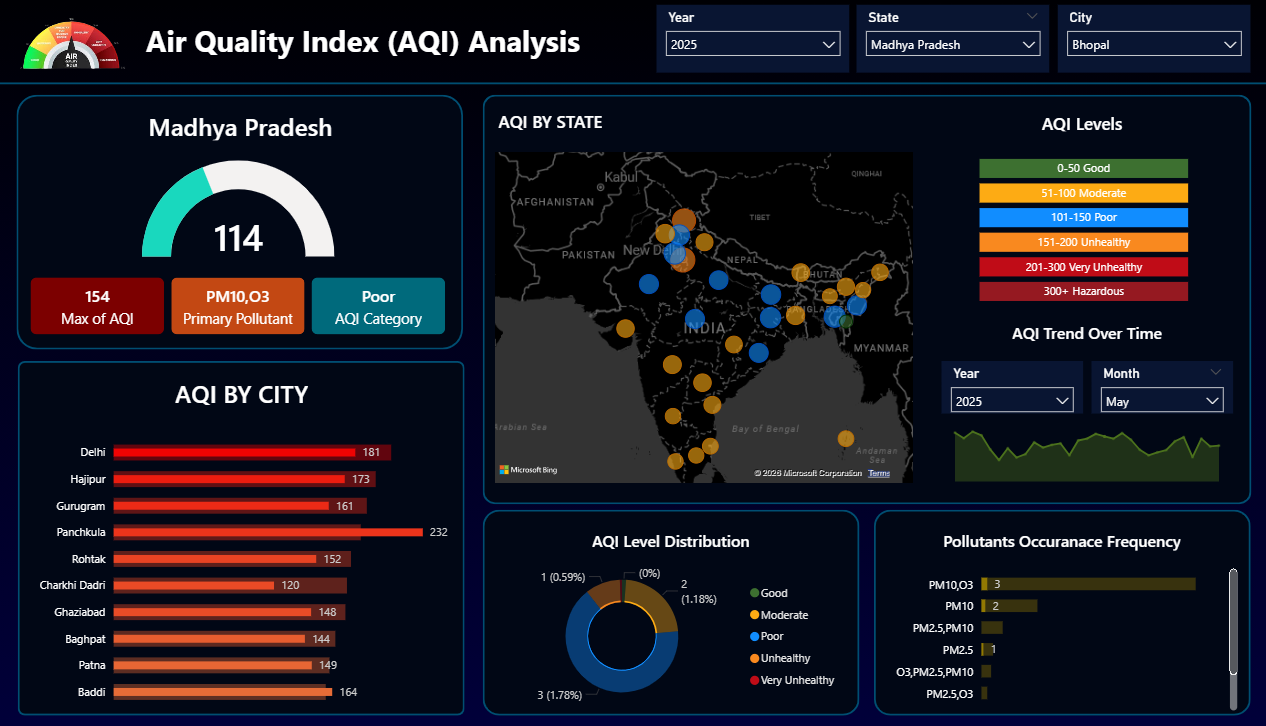

Layout of this report page (visuals, bound fields, positions):
{"tool":"powerbi","page":{"name":"AQI Analysis","canvas":[1400,800],"ordinal":0},"visuals":[{"type":"shape","box":[959,562.8,412.8,225.6],"z":0},{"type":"shape","box":[19.5,108.1,489.3,279.2],"z":1000},{"type":"textbox","box":[138.4,21.9,561.6,61.6],"z":2000},{"type":"gauge","fields":{"Y":["day_wise_aqi_data.Avg AQI"]},"box":[112.8,175.6,300,115.4],"z":3000},{"type":"slicer","fields":{"Values":["Calendar.Year"]},"box":[721,9,211.5,74.4],"z":4000},{"type":"slicer","fields":{"Values":["day_wise_aqi_data.state"]},"box":[940,9,211.5,74.4],"z":5000},{"type":"slicer","fields":{"Values":["day_wise_aqi_data.area"]},"box":[1160.3,9,211.5,74.4],"z":6000},{"type":"cardVisual","fields":{"Data":["Max(day_wise_aqi_data.aqi_value)","day_wise_aqi_data.Primary Pollutant","day_wise_aqi_data.AQI Category KPI"]},"box":[18,291.2,490.8,96.1],"z":7000},{"type":"cardVisual","fields":{"Data":["day_wise_aqi_data.KPI Title"]},"box":[20.5,107.7,488.5,67.9],"z":8000},{"type":"shape","box":[529.5,107.7,842.3,448.7],"z":9000},{"type":"map","fields":{"Category":["day_wise_aqi_data.state"],"Size":["day_wise_aqi_data.Avg AQI"]},"box":[538.5,165.4,467.9,373.1],"z":10000},{"type":"cardVisual","fields":{"Data":["day_wise_aqi_data.StatewiseAQI"]},"box":[529.5,107.7,460.3,57.7],"z":11000},{"type":"barChart","fields":{"Category":["day_wise_aqi_data.AQI Category"],"Y":["day_wise_aqi_data.Label"]},"box":[1070.5,165.4,238.5,174.4],"z":12000},{"type":"cardVisual","fields":{"Data":["day_wise_aqi_data.AQILevels"]},"box":[1033.3,109,309,56.4],"z":13000},{"type":"areaChart","fields":{"Category":["Calendar.Date.Variation.Date Hierarchy.Day"],"Y":["day_wise_aqi_data.Avg AQI"]},"box":[1033.3,457.7,319.2,80.8],"z":14000},{"type":"slicer","fields":{"Values":["Calendar.Date.Variation.Date Hierarchy.Year"]},"box":[1033.3,400,155.1,57.7],"z":15000},{"type":"slicer","fields":{"Values":["Calendar.Date.Variation.Date Hierarchy.Month"]},"box":[1197.4,400,155.1,57.7],"z":16000},{"type":"cardVisual","fields":{"Data":["day_wise_aqi_data.MonthWiseTitle"]},"box":[1033.3,346.2,319.2,41],"z":17000},{"type":"shape","box":[20.5,400,489.7,388.5],"z":18000},{"type":"barChart","fields":{"Category":["day_wise_aqi_data.area"],"Y":["day_wise_aqi_data.Avg AQI"]},"box":[33.3,466.7,464.1,321.8],"z":19000},{"type":"cardVisual","fields":{"Data":["day_wise_aqi_data.Title_for_City"]},"box":[21.8,400,488.5,66.7],"z":20000},{"type":"shape","box":[529.5,562.8,412.8,225.6],"z":21000},{"type":"donutChart","fields":{"Category":["day_wise_aqi_data.AQI Category"],"Y":["day_wise_aqi_data.Count of rows"]},"box":[538.5,615.4,391,173.1],"z":22000},{"type":"cardVisual","fields":{"Data":["day_wise_aqi_data.Donut_Dstrbtn"]},"box":[530.1,563,412.3,65.8],"z":23000},{"type":"barChart","fields":{"Y":["day_wise_aqi_data.Count of rows"],"Category":["day_wise_aqi_data.prominent_pollutants"]},"box":[970.5,615.4,392.3,173.1],"z":24000},{"type":"cardVisual","fields":{"Data":["day_wise_aqi_data.Pollutant_title"]},"box":[958.9,563,412.3,65.8],"z":25000},{"type":"shape","box":[0,83.3,1400,24.4],"z":25001},{"type":"image","box":[20.5,9.6,117.8,74],"z":25002}]}

Visuals, with their boxes in screenshot pixels (x1, y1, x2, y2), scaled from the page's 1400x800 canvas onto the 1266x726 screenshot:
shape: <box>867,511,1240,715</box>
shape: <box>18,98,460,351</box>
textbox: <box>125,20,633,76</box>
gauge - day_wise_aqi_data.Avg AQI: <box>102,159,373,264</box>
slicer - Calendar.Year: <box>652,8,843,76</box>
slicer - day_wise_aqi_data.state: <box>850,8,1041,76</box>
slicer - day_wise_aqi_data.area: <box>1049,8,1240,76</box>
cardVisual - Max(day_wise_aqi_data.aqi_value) x day_wise_aqi_data.Primary Pollutant: <box>16,264,460,351</box>
cardVisual - day_wise_aqi_data.KPI Title: <box>19,98,460,159</box>
shape: <box>479,98,1240,505</box>
map - day_wise_aqi_data.state x day_wise_aqi_data.Avg AQI: <box>487,150,910,489</box>
cardVisual - day_wise_aqi_data.StatewiseAQI: <box>479,98,895,150</box>
barChart - day_wise_aqi_data.AQI Category x day_wise_aqi_data.Label: <box>968,150,1184,308</box>
cardVisual - day_wise_aqi_data.AQILevels: <box>934,99,1214,150</box>
areaChart - Calendar.Date.Variation.Date Hierarchy.Day x day_wise_aqi_data.Avg AQI: <box>934,415,1223,489</box>
slicer - Calendar.Date.Variation.Date Hierarchy.Year: <box>934,363,1075,415</box>
slicer - Calendar.Date.Variation.Date Hierarchy.Month: <box>1083,363,1223,415</box>
cardVisual - day_wise_aqi_data.MonthWiseTitle: <box>934,314,1223,351</box>
shape: <box>19,363,461,716</box>
barChart - day_wise_aqi_data.area x day_wise_aqi_data.Avg AQI: <box>30,424,450,716</box>
cardVisual - day_wise_aqi_data.Title_for_City: <box>20,363,461,424</box>
shape: <box>479,511,852,715</box>
donutChart - day_wise_aqi_data.AQI Category x day_wise_aqi_data.Count of rows: <box>487,558,841,716</box>
cardVisual - day_wise_aqi_data.Donut_Dstrbtn: <box>479,511,852,571</box>
barChart - day_wise_aqi_data.Count of rows x day_wise_aqi_data.prominent_pollutants: <box>878,558,1232,716</box>
cardVisual - day_wise_aqi_data.Pollutant_title: <box>867,511,1240,571</box>
shape: <box>0,76,1265,98</box>
image: <box>19,9,125,76</box>
